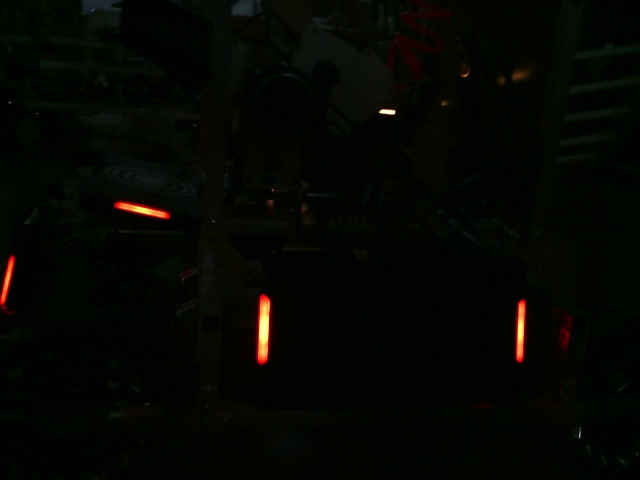lamp: (254, 291, 274, 369), (511, 300, 532, 362), (2, 253, 15, 311)
